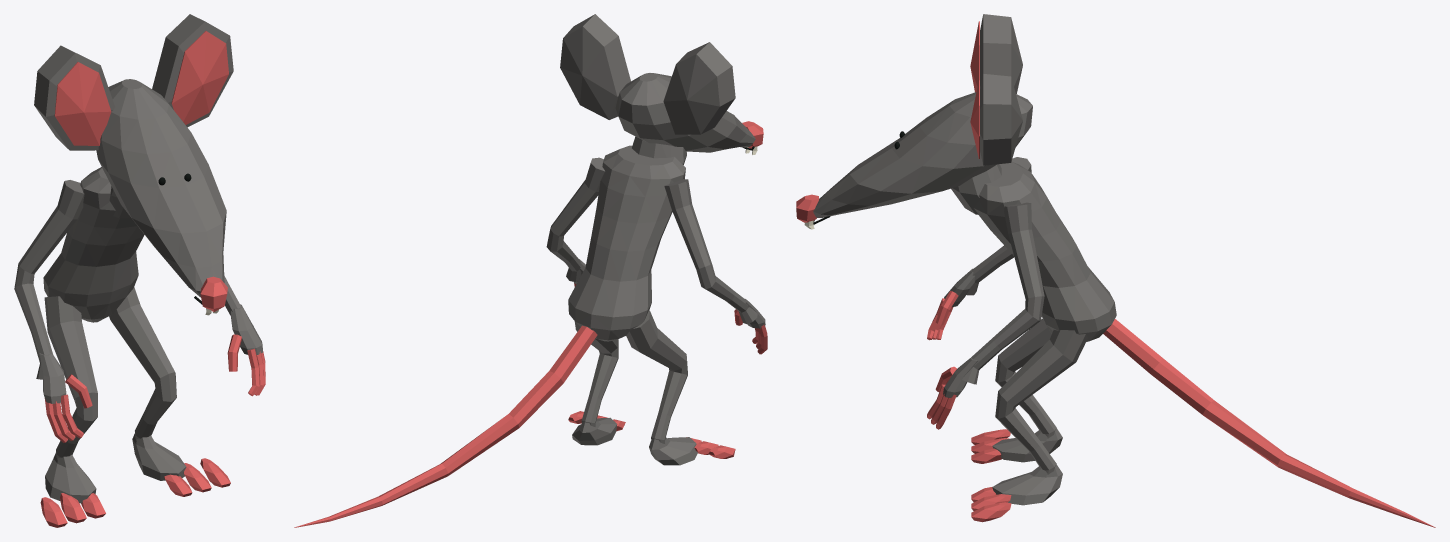
File: rat.glb
3 views of the same model, side by side, from view 1: azimuth 30°, elevation 25°; view 2: azimuth 150°, elevation 25°; view 3: azimuth 270°, elevation 25° (orthographic). The views are drawn at different scales.
Visible parts, largest first — view 1: GEO-Rat; view 2: GEO-Rat; view 3: GEO-Rat.
Boxes of the visible parts, box(x1,y1,x2,y2) form: GEO-Rat: box(14, 14, 265, 527); GEO-Rat: box(294, 14, 767, 527); GEO-Rat: box(796, 14, 1435, 527).
Bounding box in the file's own units: 1.52 × 2.43 × 3.21.
